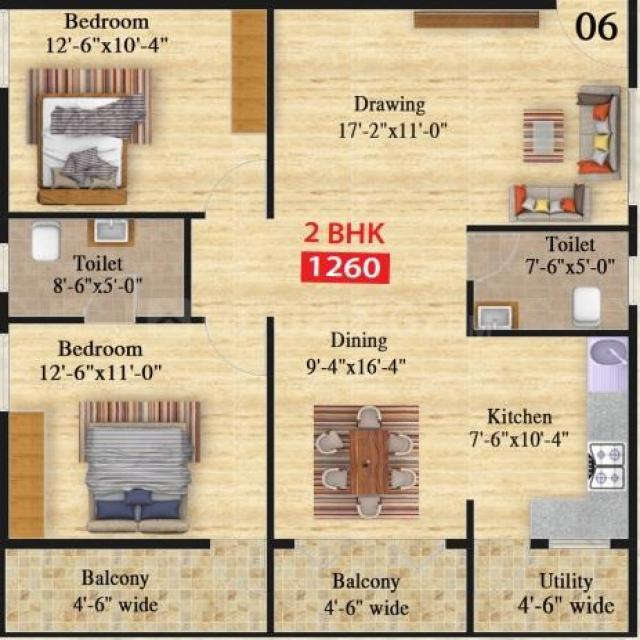Balcony-Sitout: (6, 545, 266, 631), (274, 542, 466, 632)
Bedroom: (8, 10, 268, 212)
Bedroom with Toilet: (5, 213, 269, 541)
Dining: (310, 398, 425, 522)
Enterance-Foyer: (552, 1, 632, 73)
Kitchen: (473, 337, 628, 538)
Living: (275, 9, 628, 224)
Toilet: (8, 219, 185, 316), (474, 232, 629, 329)
Utility: (475, 543, 628, 633)
